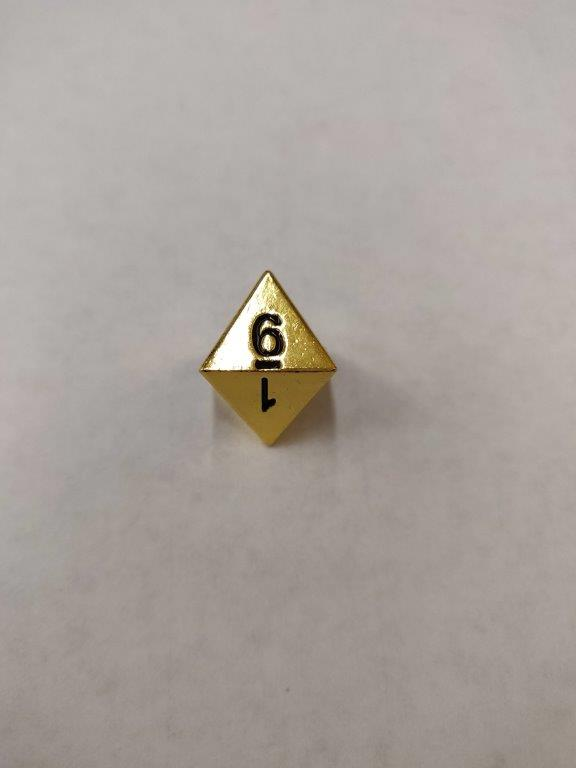d8-6: (200, 270, 337, 448)
